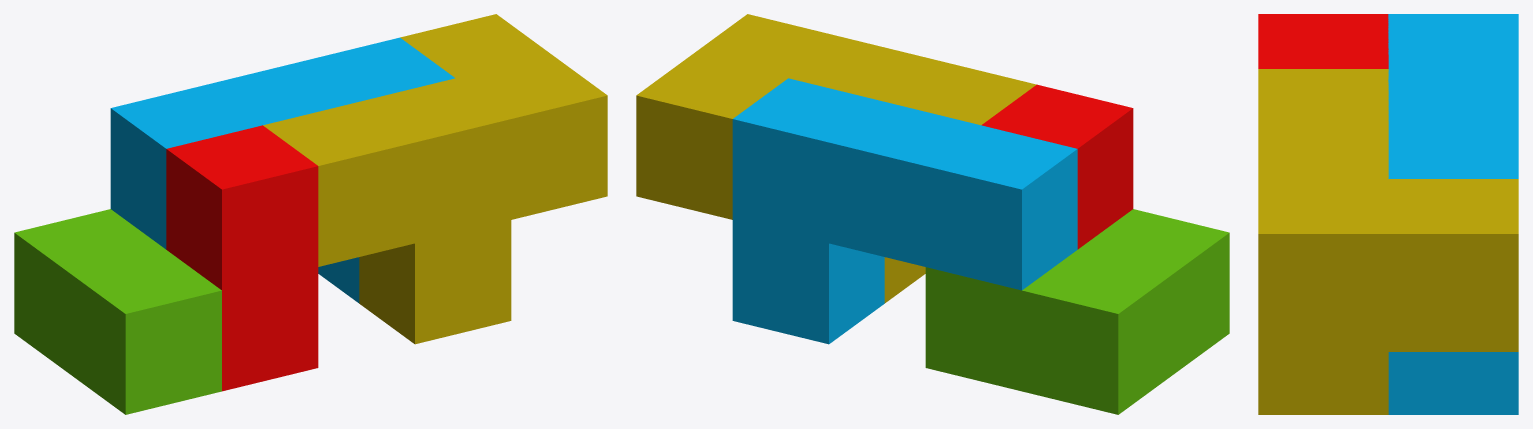
The picture shows the model from 3 angles, left to right: view 1: azimuth 30°, elevation 25°; view 2: azimuth 150°, elevation 25°; view 3: azimuth 270°, elevation 25°; orthographic projection. The views are drawn at different scales.
Visible parts, largest first — view 1: mergedBlocks(Clone); view 2: mergedBlocks(Clone); view 3: mergedBlocks(Clone).
Boxes of the visible parts, box(x1,y1,x2,y2) form: mergedBlocks(Clone): box(14, 14, 607, 414); mergedBlocks(Clone): box(636, 14, 1229, 414); mergedBlocks(Clone): box(1258, 14, 1518, 414).
Bounding box in the file's own units: 5 × 2 × 2.
Materials: 4 (4 with a texture image).
